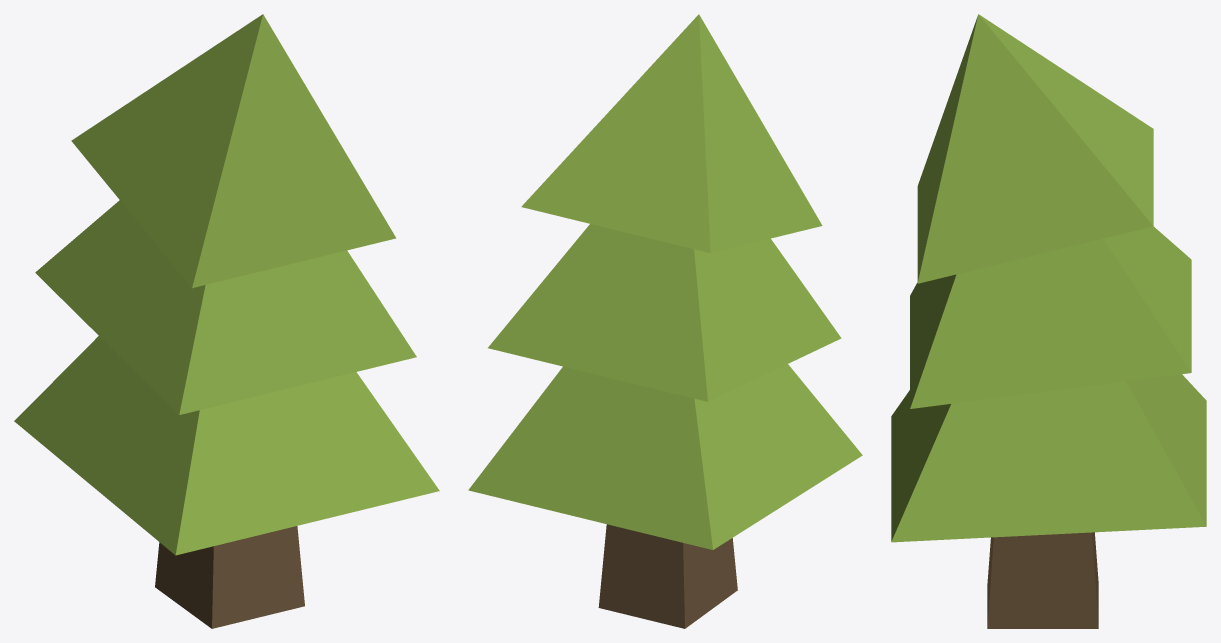
File: FirTree_02.fbx
3 views of the same model, side by side, from view 1: azimuth 30°, elevation 25°; view 2: azimuth 150°, elevation 25°; view 3: azimuth 270°, elevation 25° (orthographic). The views are drawn at different scales.
Parts seen in each view (by area): view 1: FirTree_02; view 2: FirTree_02; view 3: FirTree_02.
Part boxes in pixels (x1,y1,x2,y2): FirTree_02: (14, 14, 439, 628); FirTree_02: (468, 14, 862, 628); FirTree_02: (891, 14, 1206, 628).
Bounding box in the file's own units: 1.66 × 3.64 × 1.76.
